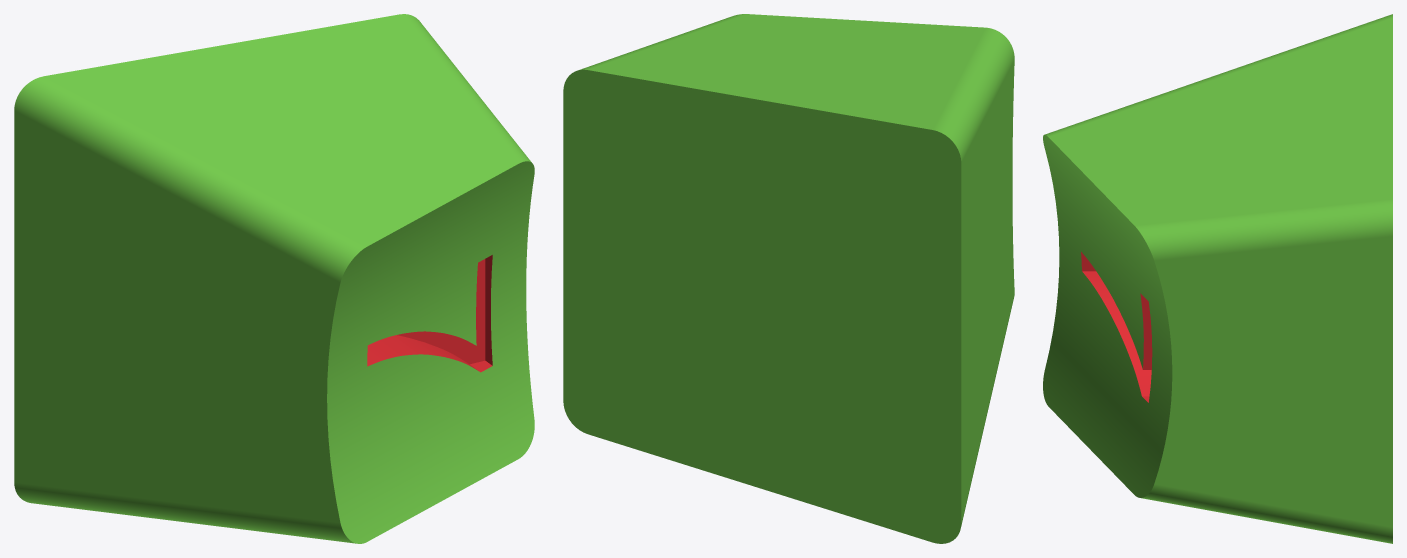
File: Key7.fbx
The picture shows the model from 3 angles, left to right: view 1: azimuth 30°, elevation 25°; view 2: azimuth 150°, elevation 25°; view 3: azimuth 270°, elevation 25°; orthographic projection. The views are drawn at different scales.
Parts seen in each view (by area): view 1: Key7 v3; view 2: Key7 v3; view 3: Key7 v3.
Part boxes in pixels (box(x1,y1,x2,y2)): Key7 v3: box(14, 14, 534, 543); Key7 v3: box(563, 14, 1014, 543); Key7 v3: box(1043, 14, 1392, 543).
Size of the model in its own units: 1500 by 1486 by 1213.
